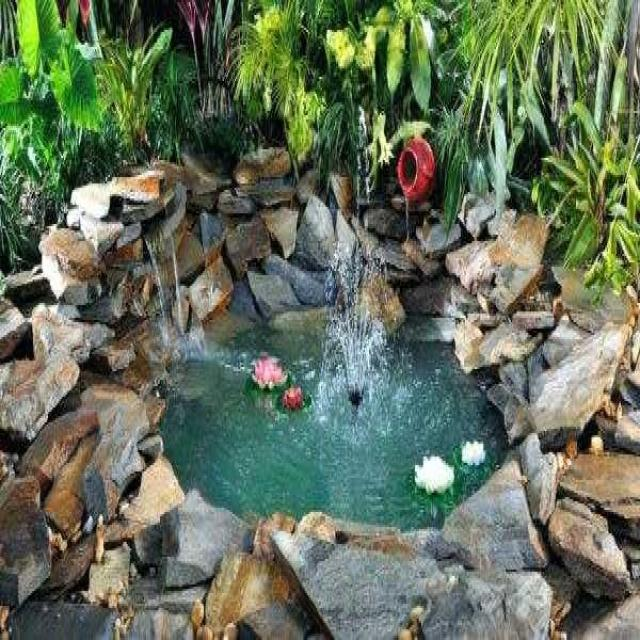Ponds: (48, 198, 587, 640)
